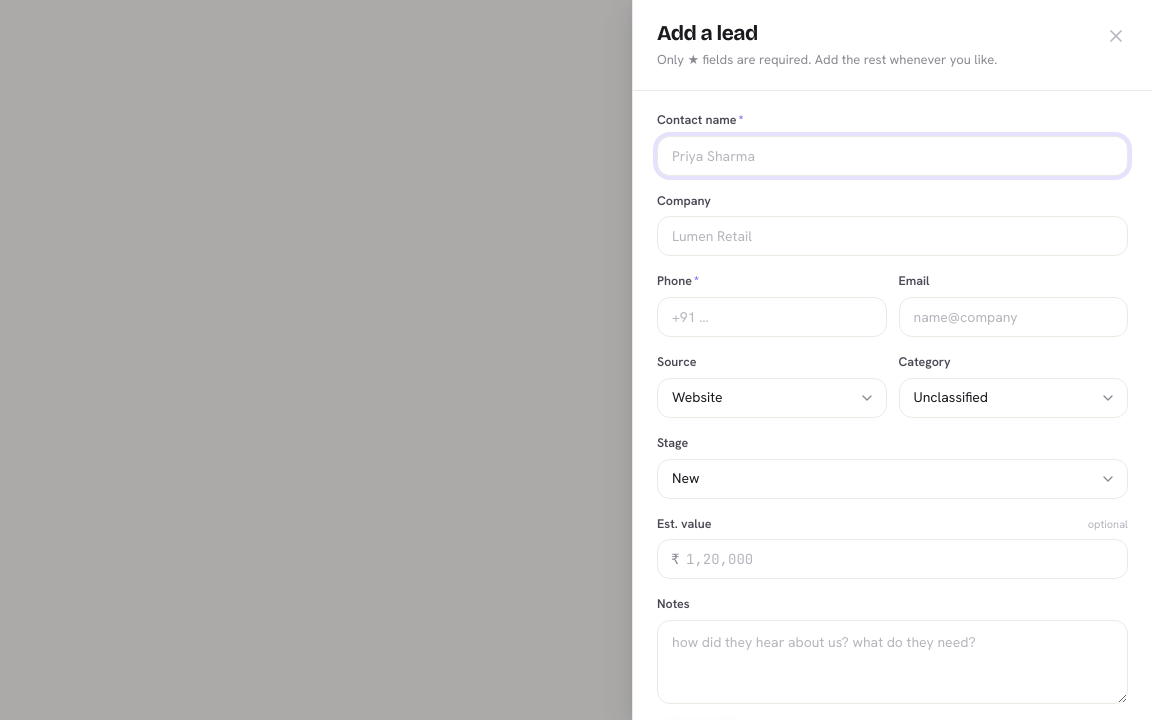
Scenario: AddLeadDrawer composer › surfaces a server error as a toast
Step 1. Type "Priya" into the field with placeholder "Priya Sharma" → (892, 156), box [657,136,1128,176]
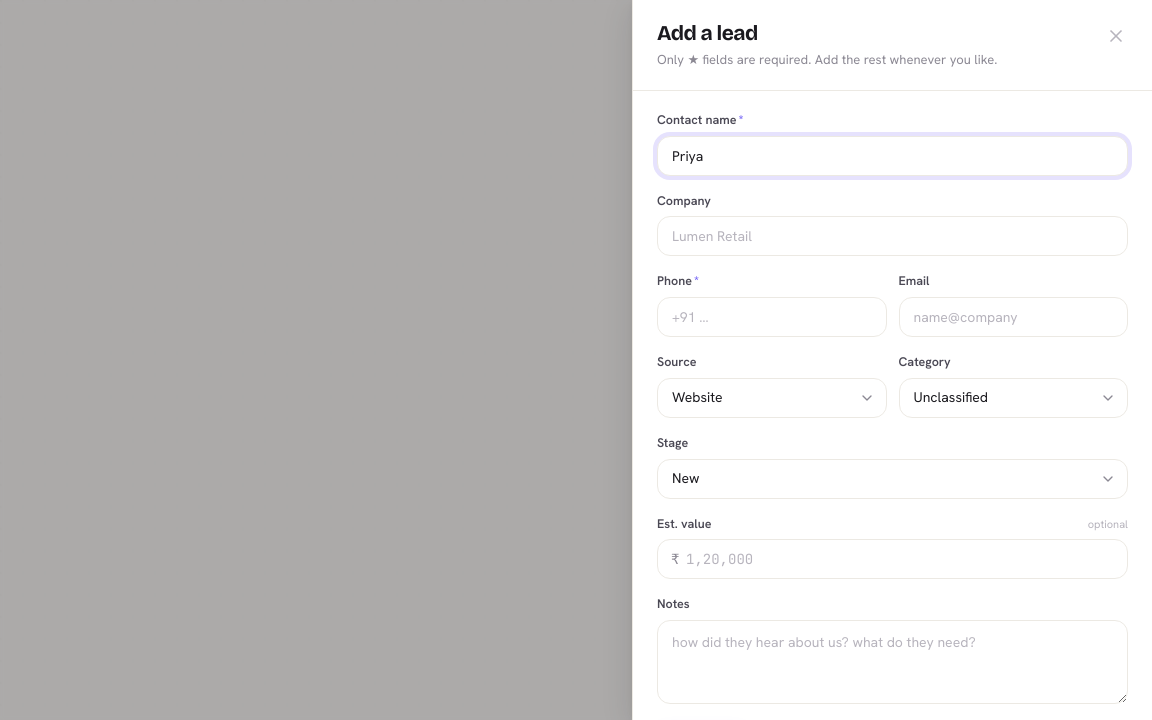
Step 2. Type "+919876543210" into the field with placeholder "+91 …" → (772, 317), box [657,297,886,337]
(page scrolled)
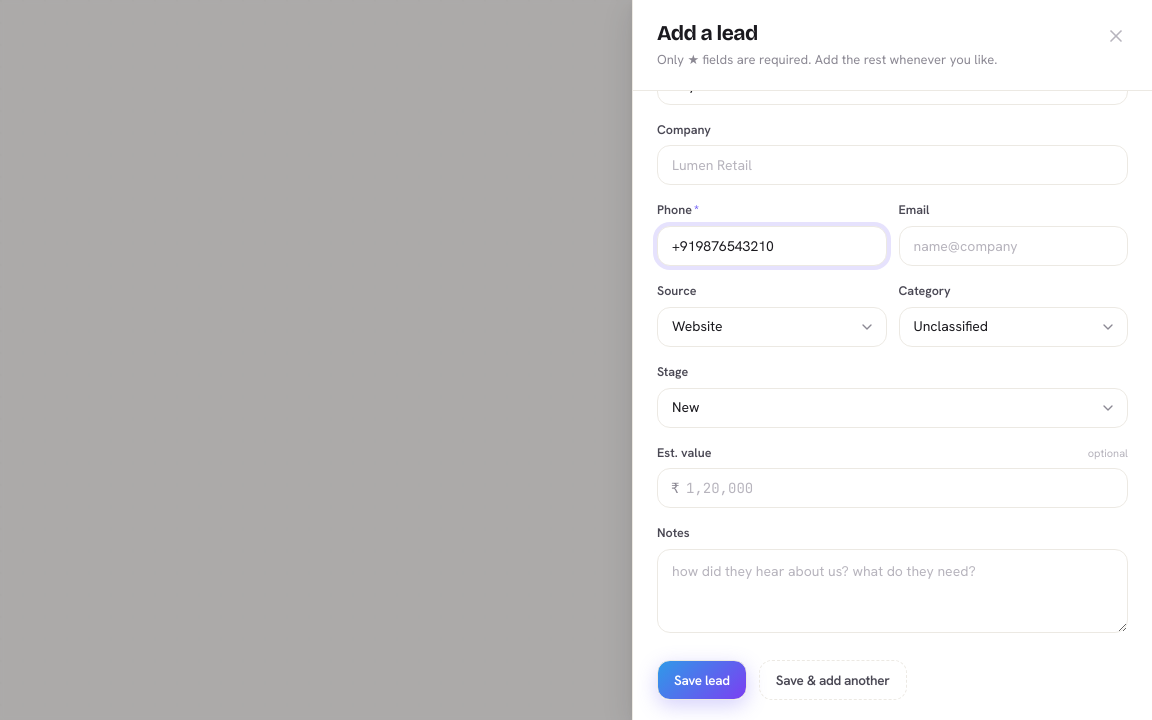
Step 3. Click the button "Save lead" → (702, 680), box [657,660,747,700]
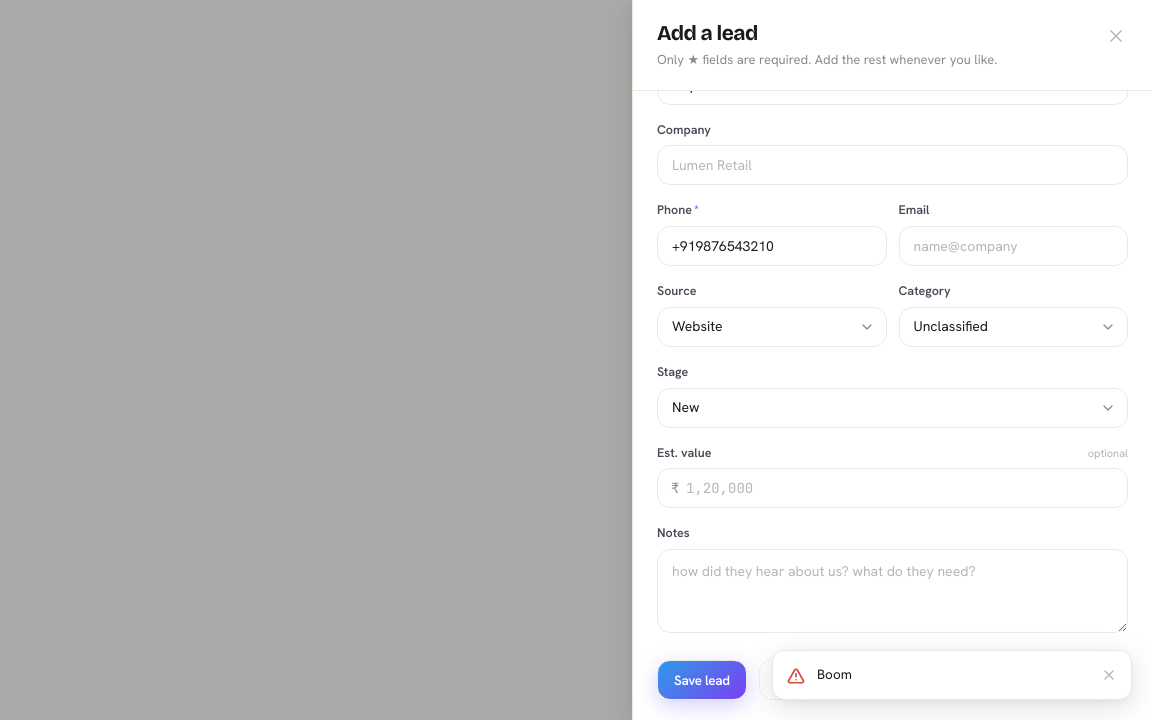
Expected: the text "Boom" is shown, [817,665,852,683]
